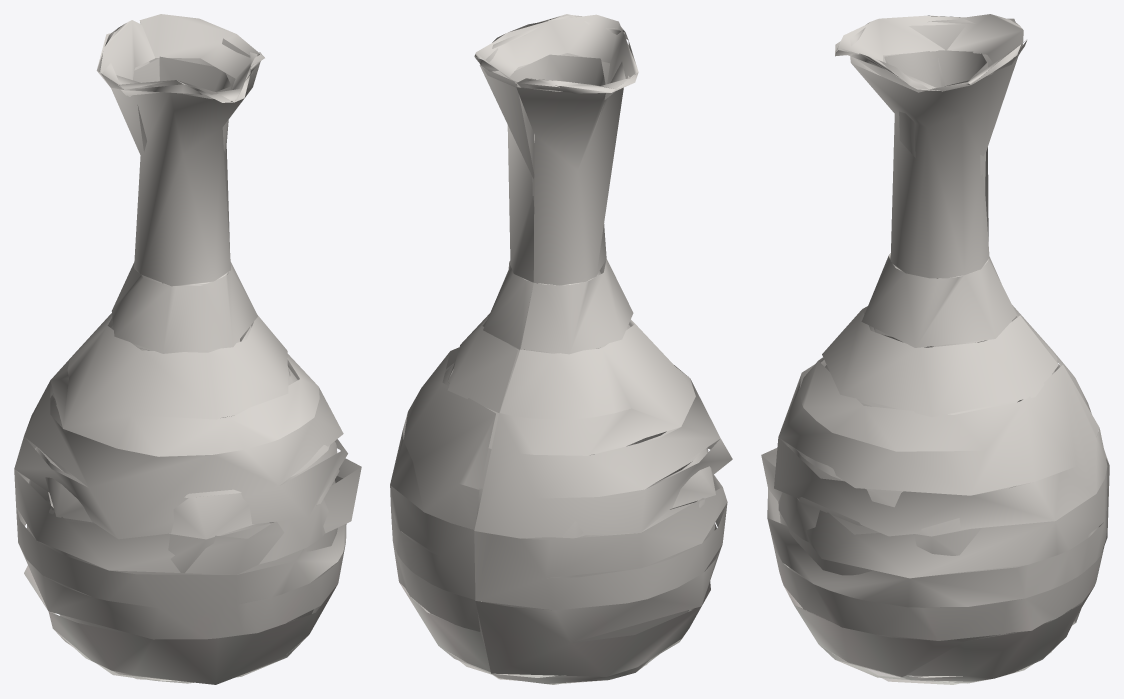
Rendered from vase-lightweight-505f20226f.glb.
3 renders of one model, left to right at view 1: azimuth 30°, elevation 25°; view 2: azimuth 150°, elevation 25°; view 3: azimuth 270°, elevation 25°, orthographic. The views are drawn at different scales.
Visible parts, largest first — view 1: ceramic_vase_01; view 2: ceramic_vase_01; view 3: ceramic_vase_01.
Boxes of the visible parts, left/top/right/bottom form: ceramic_vase_01: left=14, top=14, right=361, bottom=684; ceramic_vase_01: left=390, top=14, right=732, bottom=684; ceramic_vase_01: left=761, top=14, right=1109, bottom=684.
Size of the model in its own units: 0.2091 by 0.4017 by 0.2095.
Materials: 1 (1 with a texture image).
